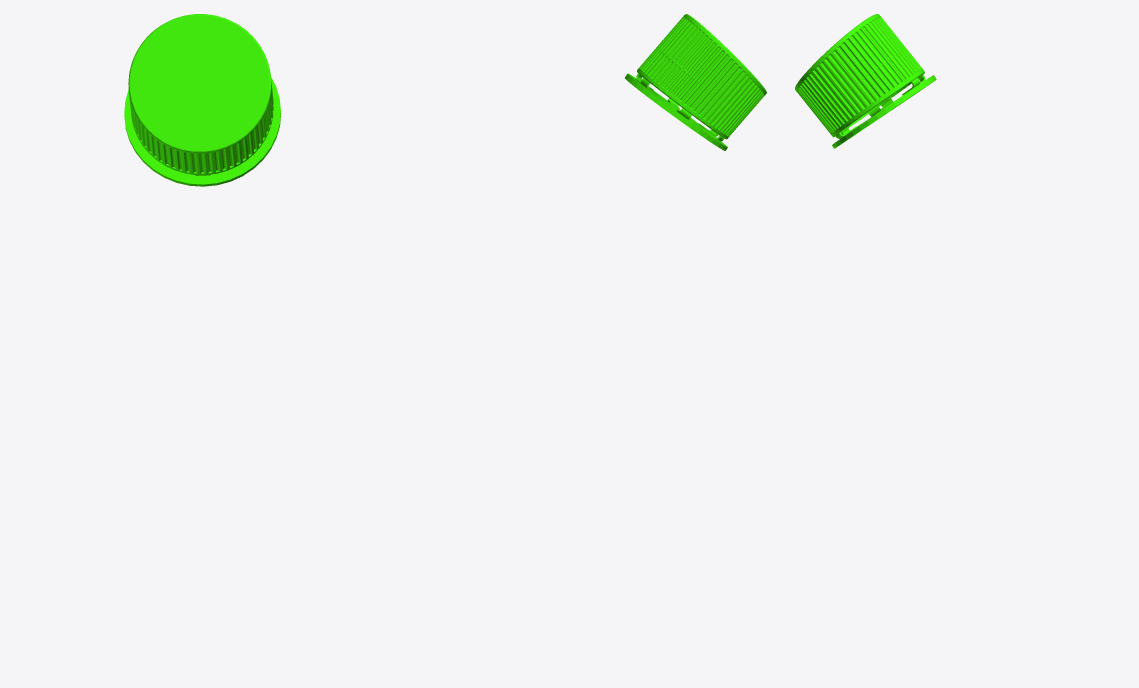
File: bend_high_0.obj
3 renders of one model, left to right at view 1: azimuth 30°, elevation 25°; view 2: azimuth 150°, elevation 25°; view 3: azimuth 270°, elevation 25°, orthographic. The views are drawn at different scales.
Visible parts, largest first — view 1: model; view 2: model; view 3: model.
Part boxes in pixels (left/top/right/bottom): model: left=124, top=14, right=280, bottom=186; model: left=625, top=14, right=766, bottom=150; model: left=795, top=14, right=936, bottom=148.
Bounding box in the file's own units: 0.1262 × 0.2661 × 0.1329.
Materials: 1 (1 with a texture image).
